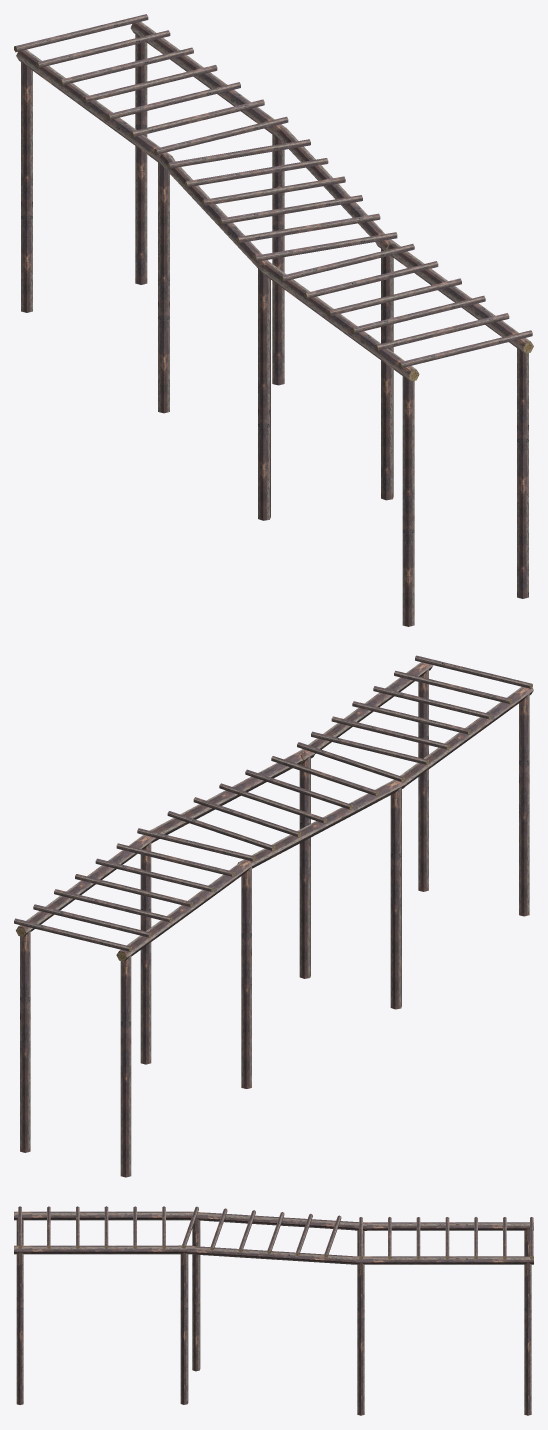
The model's file is ParkourScaffolding02.obj.
3 renders of one model, top to bottom at view 1: azimuth 30°, elevation 25°; view 2: azimuth 150°, elevation 25°; view 3: azimuth 270°, elevation 25°, orthographic. The views are drawn at different scales.
Visible parts, largest first — view 1: ParkourScaffolding02; view 2: ParkourScaffolding02; view 3: ParkourScaffolding02.
Part boxes in pixels (left/top/right/bottom): ParkourScaffolding02: left=14, top=14, right=533, bottom=626; ParkourScaffolding02: left=14, top=655, right=533, bottom=1177; ParkourScaffolding02: left=14, top=1206, right=533, bottom=1415.
Bounding box in the file's own units: 3.46 × 5.23 × 15.36.
